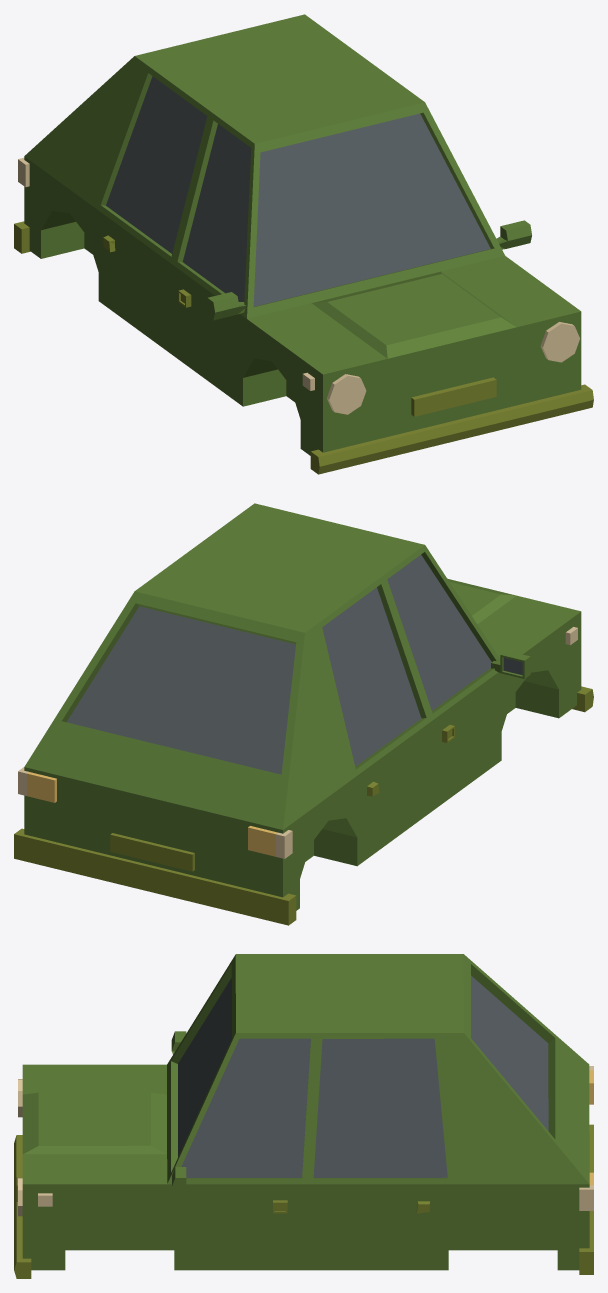
The model's file is Car_04.fbx.
3 views of the same model, one above another, from view 1: azimuth 30°, elevation 25°; view 2: azimuth 150°, elevation 25°; view 3: azimuth 270°, elevation 25° (orthographic). The views are drawn at different scales.
Parts seen in each view (by area): view 1: Car_04; view 2: Car_04; view 3: Car_04.
Part boxes in pixels (x1,y1,x2,y2): Car_04: (14,14,593,474); Car_04: (14,503,593,925); Car_04: (14,954,593,1278).
Bounding box in the file's own units: 1.96 × 1.38 × 3.28.
